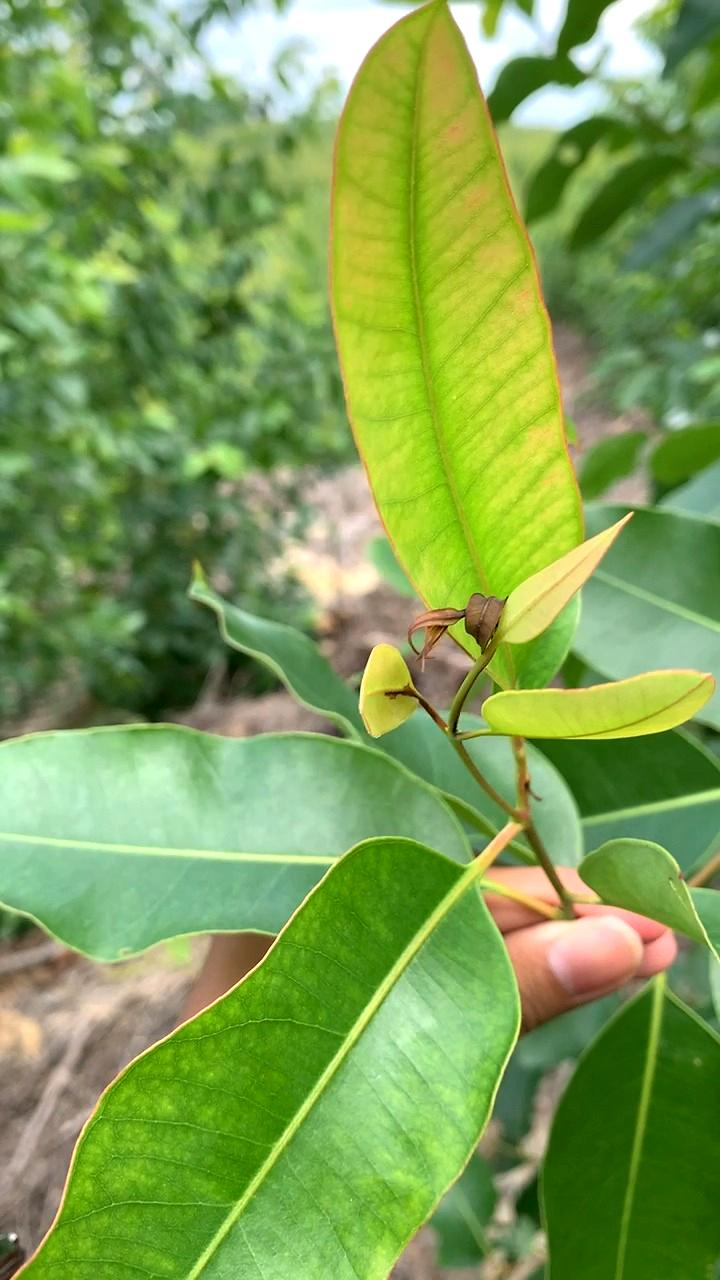Helopeltis-Withered Sprout: (398, 591, 509, 693)
